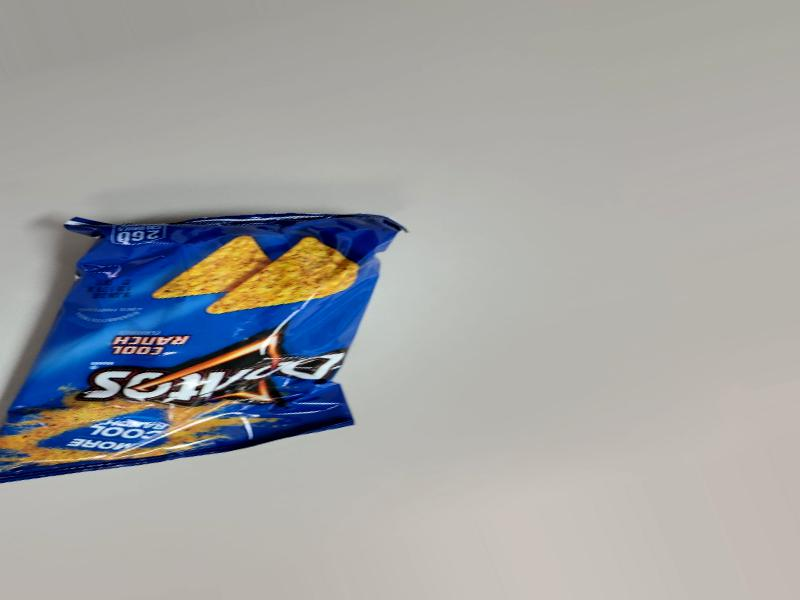doritos: (0, 233, 378, 478)
